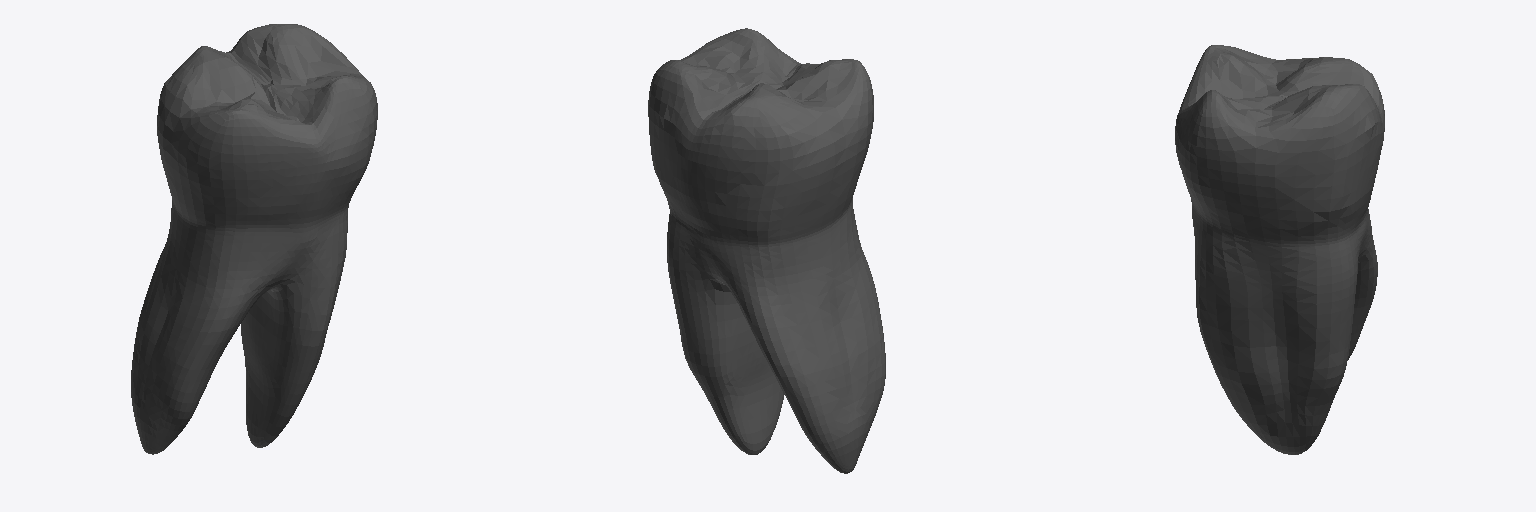
3 views of the same model, side by side, from view 1: azimuth 30°, elevation 25°; view 2: azimuth 150°, elevation 25°; view 3: azimuth 270°, elevation 25° (orthographic).
Parts seen in each view (by area): view 1: ffff:group5 ffff:polySurface19 ffff:polySurface1; view 2: ffff:group5 ffff:polySurface19 ffff:polySurface1; view 3: ffff:group5 ffff:polySurface19 ffff:polySurface1.
Boxes of the visible parts, x1,y1,x2,y2 form: ffff:group5 ffff:polySurface19 ffff:polySurface1: [131, 24, 377, 454]; ffff:group5 ffff:polySurface19 ffff:polySurface1: [648, 28, 885, 473]; ffff:group5 ffff:polySurface19 ffff:polySurface1: [1175, 45, 1384, 454].
Size of the model in its own units: 3.14 by 5.71 by 2.77.